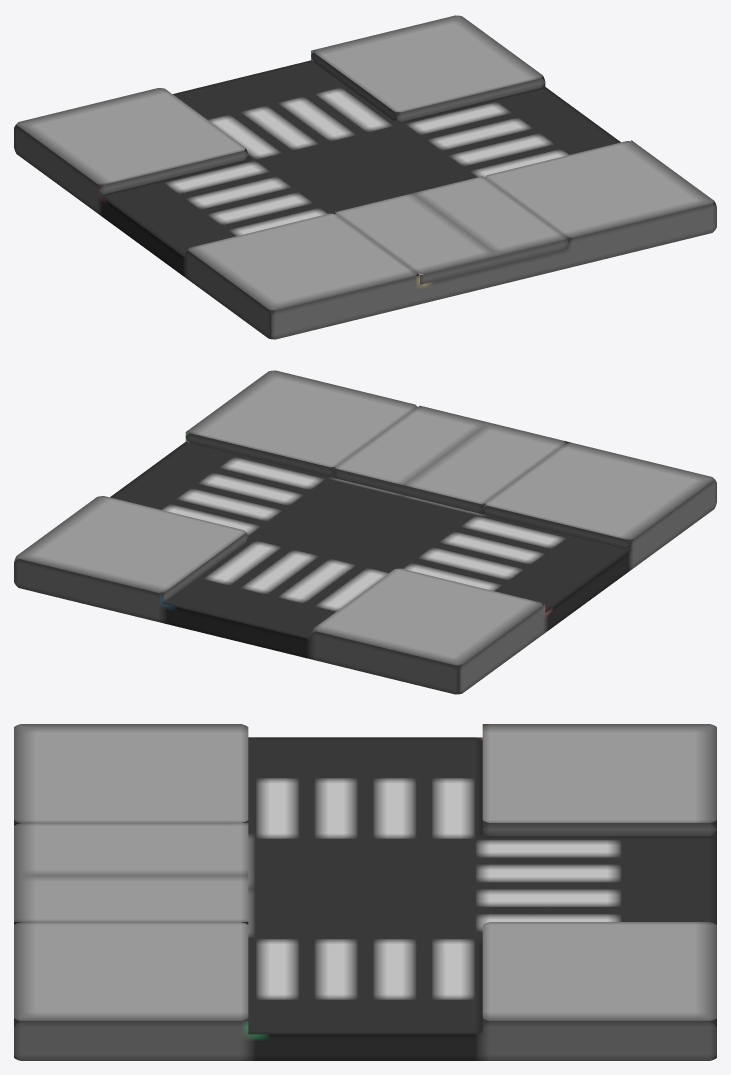
File: Floor-Street-T.fbx
The picture shows the model from 3 angles, top to bottom: view 1: azimuth 30°, elevation 25°; view 2: azimuth 150°, elevation 25°; view 3: azimuth 270°, elevation 25°; orthographic projection. The views are drawn at different scales.
Visible parts, largest first — view 1: Floor-Street-Cross, Floor-Street-Cross_1; view 2: Floor-Street-Cross, Floor-Street-Cross_1; view 3: Floor-Street-Cross, Floor-Street-Cross_1.
Boxes of the visible parts, bbox=[...] form: Floor-Street-Cross: bbox=[14, 15, 716, 339]; Floor-Street-Cross_1: bbox=[334, 176, 568, 284]; Floor-Street-Cross: bbox=[14, 370, 716, 694]; Floor-Street-Cross_1: bbox=[334, 405, 568, 514]; Floor-Street-Cross: bbox=[14, 724, 716, 1060]; Floor-Street-Cross_1: bbox=[14, 823, 248, 924].
Bounding box in the file's own units: 300 × 18.75 × 300.
1 material, 1 textured.
